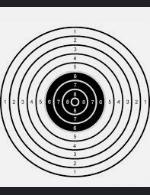bulls eye: (1, 25, 150, 180)
